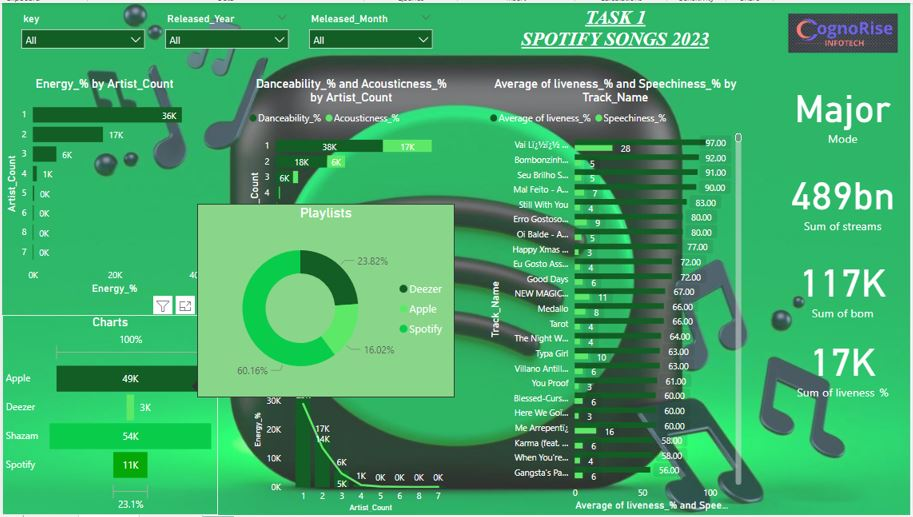

This screenshot's page, from the dashboard's own definition file:
{"tool":"powerbi","page":{"name":"Task 1","canvas":[1280,720],"ordinal":2},"visuals":[{"type":"slicer","fields":{"Values":["spotify-2023.key"]},"box":[68.6,0,193.7,67.2],"z":0,"group":"g2"},{"type":"barChart","fields":{"Category":["spotify-2023.artist_count"],"Y":["Sum(spotify-2023.danceability_%)","Sum(spotify-2023.acousticness_%)"]},"box":[341.8,103.7,298.5,311],"z":0},{"type":"card","fields":{"Values":["Sum(spotify-2023.streams)"]},"box":[1085.6,222.7,194.6,103.5],"z":0,"group":"g1"},{"type":"slicer","fields":{"Values":["spotify-2023.released_year"]},"box":[271.2,0,193.5,67.5],"z":1000,"group":"g2"},{"type":"clusteredBarChart","fields":{"Category":["spotify-2023.track_name"],"Y":["Avg(spotify-2023.liveness_%)","Sum(spotify-2023.speechiness_%)"]},"box":[680.1,103.7,364.6,616.3],"z":1000},{"type":"card","fields":{"Values":["Sum(spotify-2023.bpm)"]},"box":[1085.6,348.7,194.6,97.9],"z":1000,"group":"g1"},{"type":"slicer","fields":{"Values":["spotify-2023.released_month"]},"box":[473.6,0,193.5,67.5],"z":2000,"group":"g2"},{"type":"lineStackedColumnComboChart","fields":{"Category":["spotify-2023.artist_count"],"Y":["Sum(spotify-2023.energy_%)"],"Y2":["Sum(spotify-2023.valence_%)"]},"box":[349.7,438.6,290.5,281.4],"z":2000},{"type":"card","fields":{"Values":["Sum(spotify-2023.liveness_%)"]},"box":[1085.6,460.1,194.6,97.9],"z":2000,"group":"g1"},{"type":"image","box":[1101.4,9,164.2,67.5],"z":3000},{"type":"card","fields":{"Values":["Min(spotify-2023.mode)"]},"box":[1085.6,103.5,194.6,97.9],"z":3000,"group":"g1"},{"type":"funnel","title":"Charts","fields":{"Y":["Sum(spotify-2023.in_apple_charts)","Sum(spotify-2023.in_deezer_charts)","Sum(spotify-2023.in_shazam_charts)","Sum(spotify-2023.in_spotify_charts)"]},"box":[0,438.6,304.2,281.4],"z":4000},{"type":"barChart","fields":{"Category":["spotify-2023.artist_count"],"Y":["Sum(spotify-2023.energy_%)"]},"box":[0,103.7,288.2,311],"z":5000},{"type":"textbox","box":[640.1,0,453.4,90],"z":6000},{"type":"group","id":"g1","title":"Group 1","box":[1085.6,103.5,194.6,454.5],"z":7000},{"type":"group","id":"g2","title":"Group 2","box":[68.6,0,598.5,67.5],"z":8000},{"type":"actionButton","box":[0,0,50.6,45],"z":9000}]}

Visuals, with their boxes in screenshot pixels (x1, y1, x2, y2), scaled from the page's 1280x720 canvas onto the 913x517 screenshot:
slicer - spotify-2023.key: (left=49, top=0, right=187, bottom=48)
barChart - spotify-2023.artist_count x Sum(spotify-2023.danceability_%): (left=244, top=74, right=457, bottom=298)
card - Sum(spotify-2023.streams): (left=774, top=160, right=912, bottom=234)
slicer - spotify-2023.released_year: (left=193, top=0, right=331, bottom=48)
clusteredBarChart - spotify-2023.track_name x Avg(spotify-2023.liveness_%): (left=485, top=74, right=745, bottom=516)
card - Sum(spotify-2023.bpm): (left=774, top=250, right=912, bottom=321)
slicer - spotify-2023.released_month: (left=338, top=0, right=476, bottom=48)
lineStackedColumnComboChart - spotify-2023.artist_count x Sum(spotify-2023.energy_%): (left=249, top=315, right=457, bottom=516)
card - Sum(spotify-2023.liveness_%): (left=774, top=330, right=912, bottom=401)
image: (left=786, top=6, right=903, bottom=55)
card - Min(spotify-2023.mode): (left=774, top=74, right=912, bottom=145)
"Charts" funnel: (left=0, top=315, right=217, bottom=516)
barChart - spotify-2023.artist_count x Sum(spotify-2023.energy_%): (left=0, top=74, right=206, bottom=298)
textbox: (left=457, top=0, right=780, bottom=65)
"Group 1" group: (left=774, top=74, right=912, bottom=401)
"Group 2" group: (left=49, top=0, right=476, bottom=48)
actionButton: (left=0, top=0, right=36, bottom=32)
